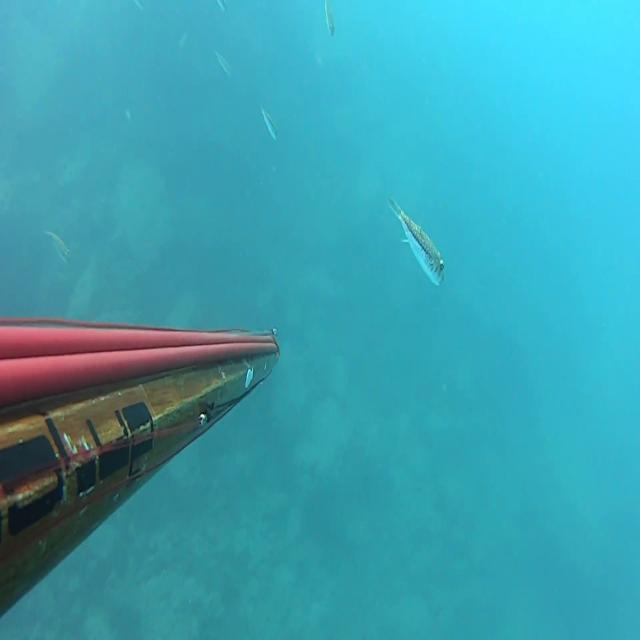Balon Baligi: (388, 196, 444, 286), (44, 230, 70, 263), (260, 104, 278, 141), (213, 48, 232, 76), (324, 0, 335, 37), (217, 0, 227, 11)
